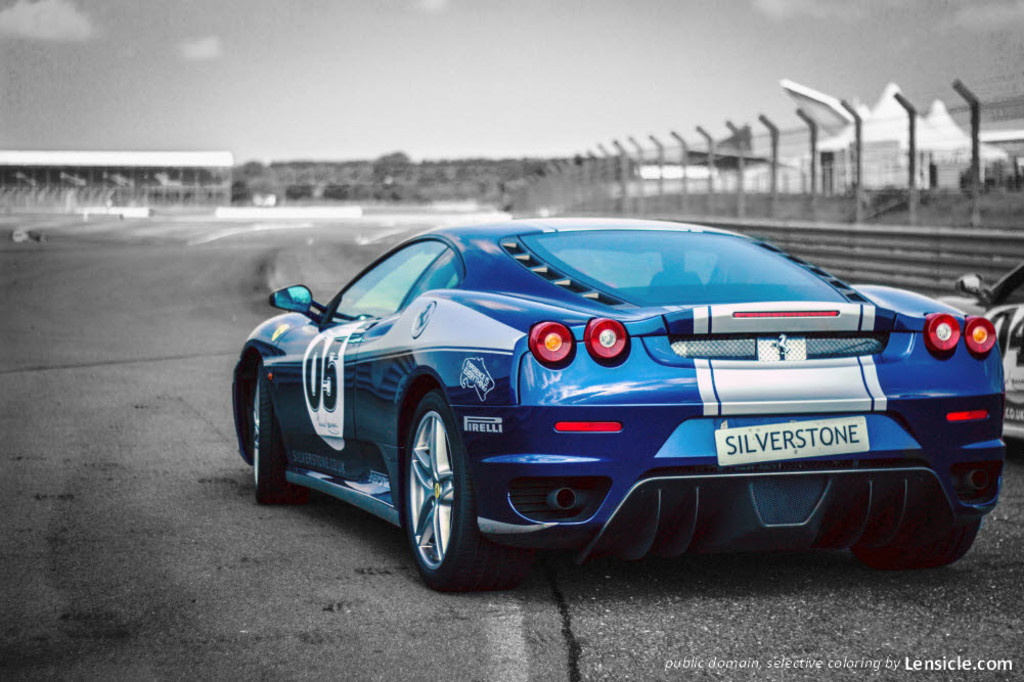Car: (232, 215, 1005, 595), (938, 260, 1022, 441)
